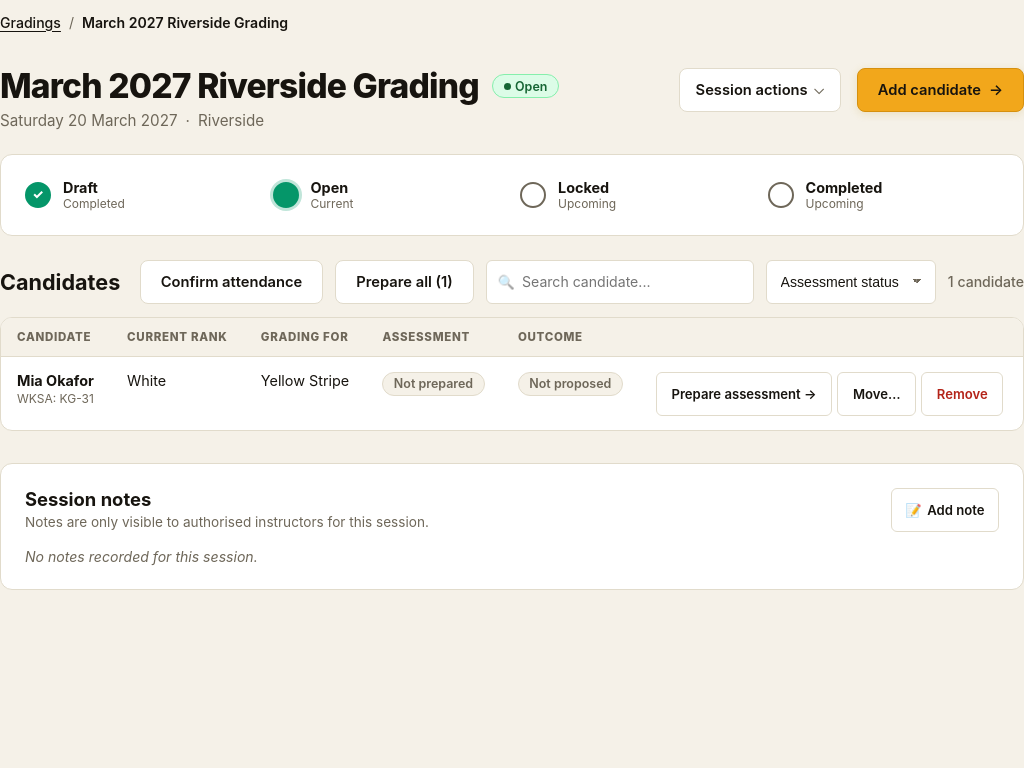
GradingSessionDetailScreen registration actions › keeps the move dialog open with the server's reason when it is refused
This screenshot has width=1024, height=768.
Click the button with aria-label "Move Mia Okafor to another session".
click(877, 394)  # box x1=838 y1=372 x2=916 y2=416
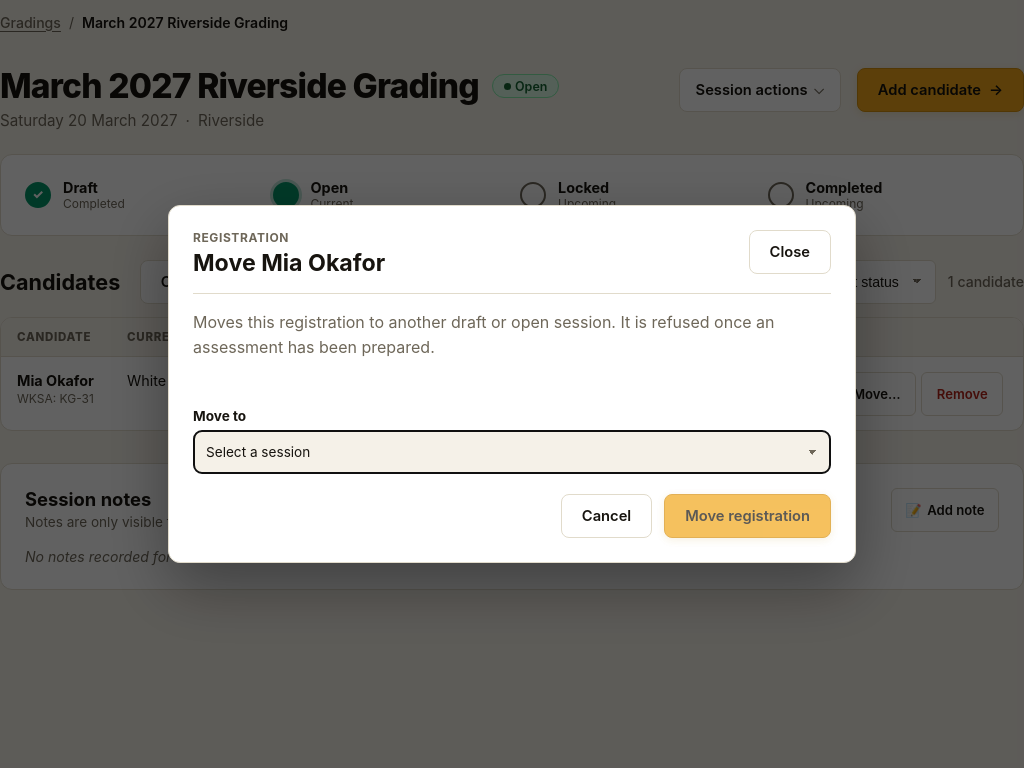
Select "April Grading · Saturday 17 April 2027" in the dropdown labelled "Move to" at [512, 452], box x1=193 y1=430 x2=831 y2=474
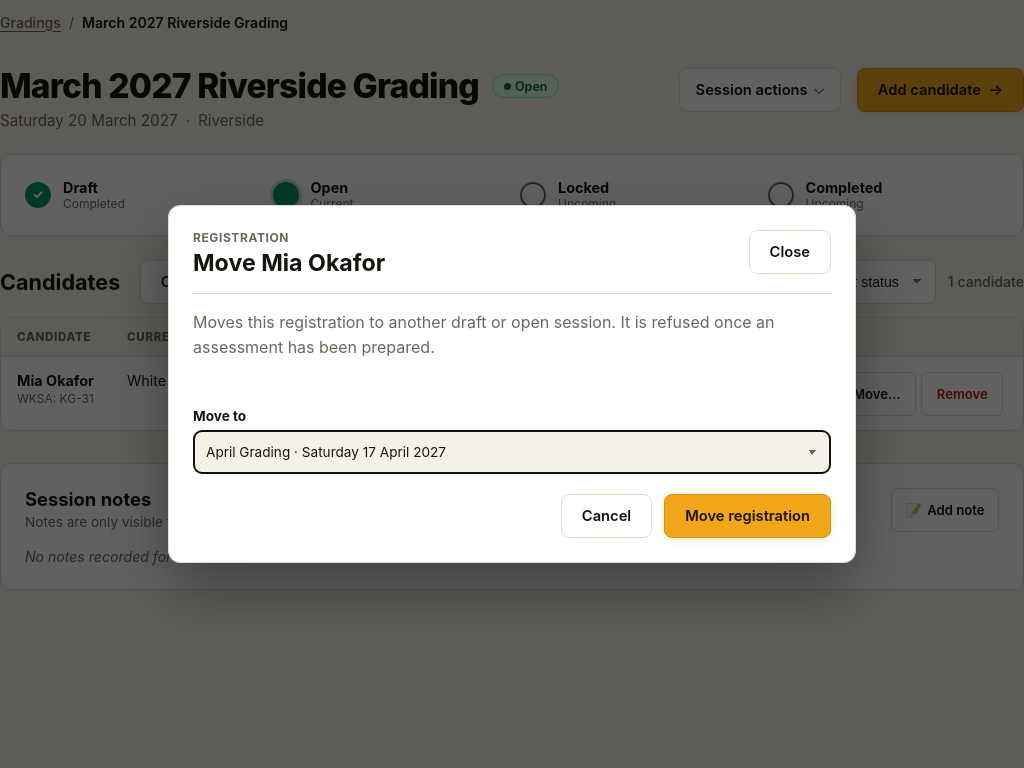
Click the button "Move registration".
click(748, 516)  # box x1=664 y1=494 x2=831 y2=538
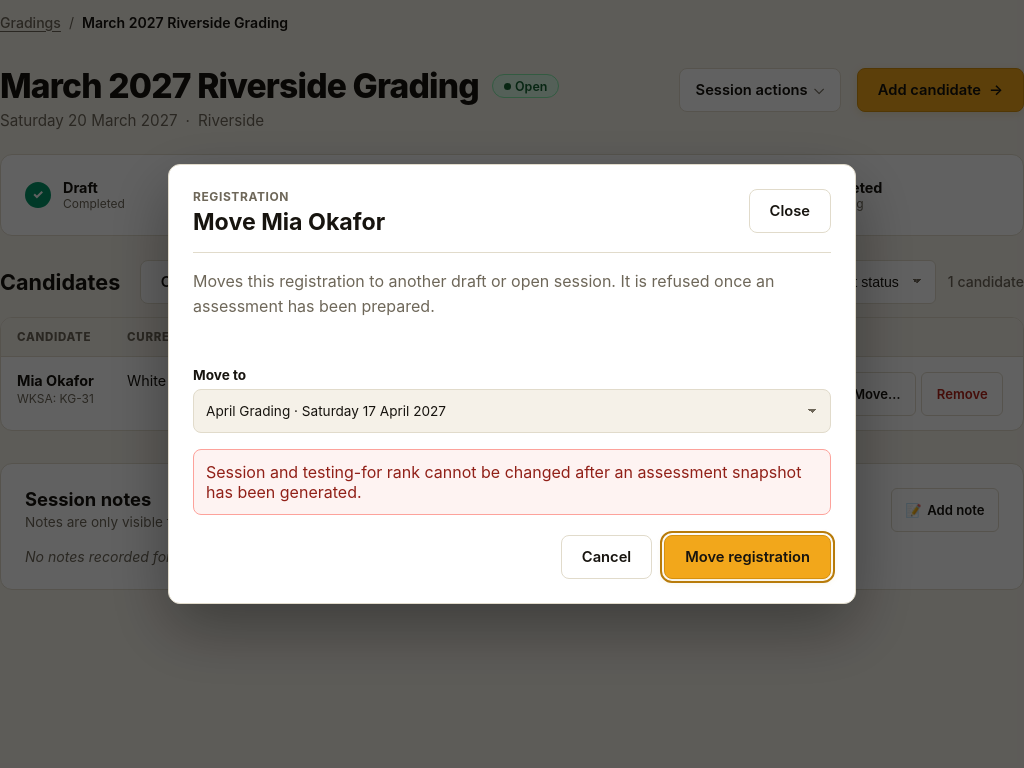
Result: the message shows "cannot be changed after an assessment snapshot" at x1=206 y1=462 x2=801 y2=502
